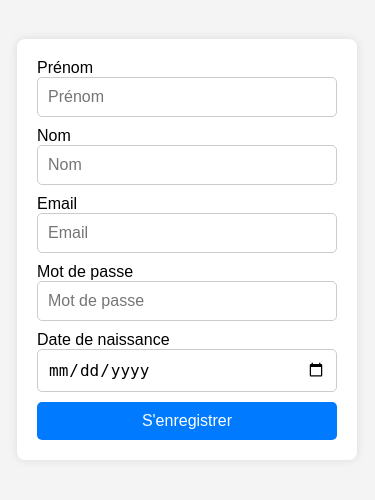
Test: RegistrationForm › erreur nom/prénom invalide
Type "Jean123" into the field with placeholder "Prénom" at (187, 96), box x1=37 y1=76 x2=337 y2=116
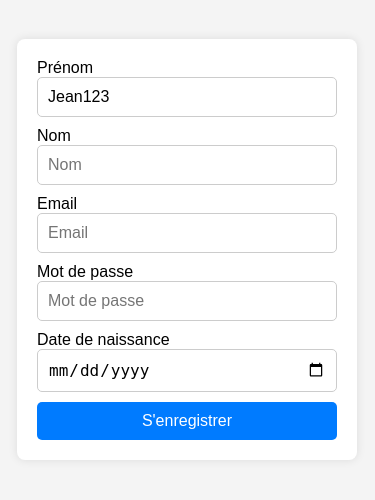
Type "Dupont!" into the field with placeholder "Nom" at (187, 164), box x1=37 y1=144 x2=337 y2=184
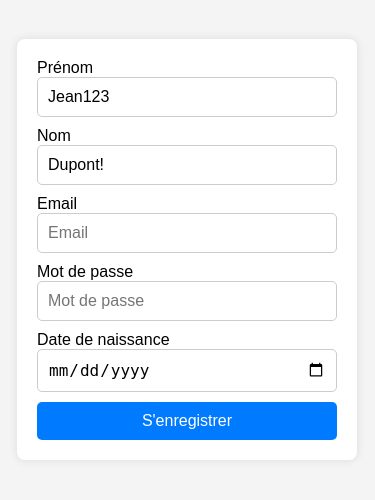
Type "jean@test.com" into the field with placeholder "Email" at (187, 232), box x1=37 y1=212 x2=337 y2=252
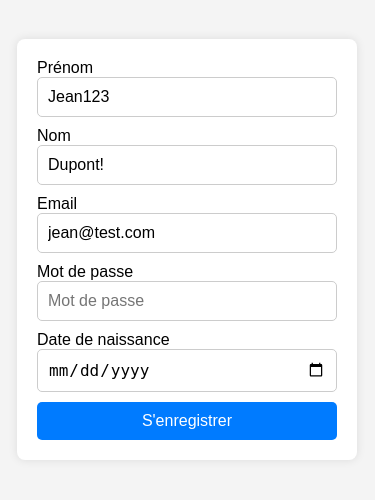
Type "pwd" into the password field with placeholder "Mot de passe" at (187, 300), box x1=37 y1=280 x2=337 y2=320
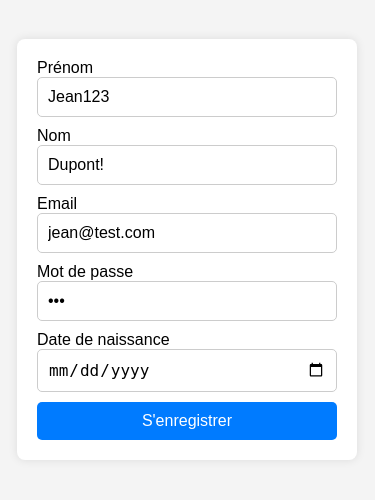
Type "1990-01-01" into the date field labelled "Date de naissance" at (187, 370), box x1=37 y1=348 x2=337 y2=392
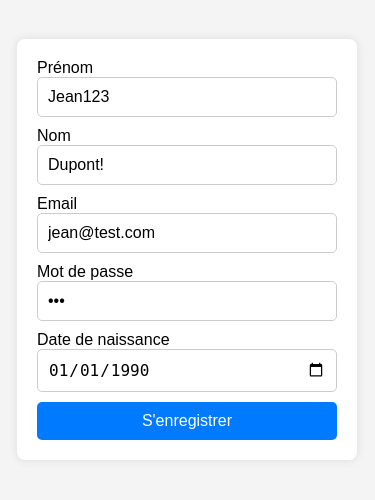
Click the button "S'enregistrer" at (187, 420), box x1=37 y1=402 x2=337 y2=440
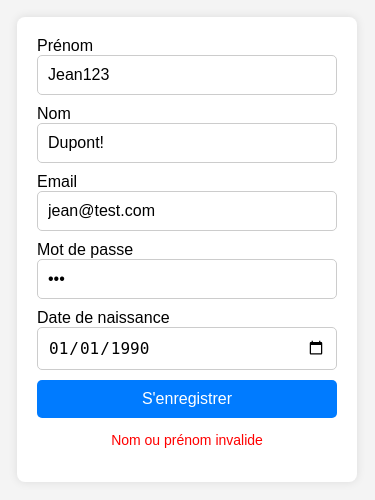
Now the text with test id "error-message" reads "Nom ou prénom invalide", box x1=111 y1=432 x2=263 y2=448
